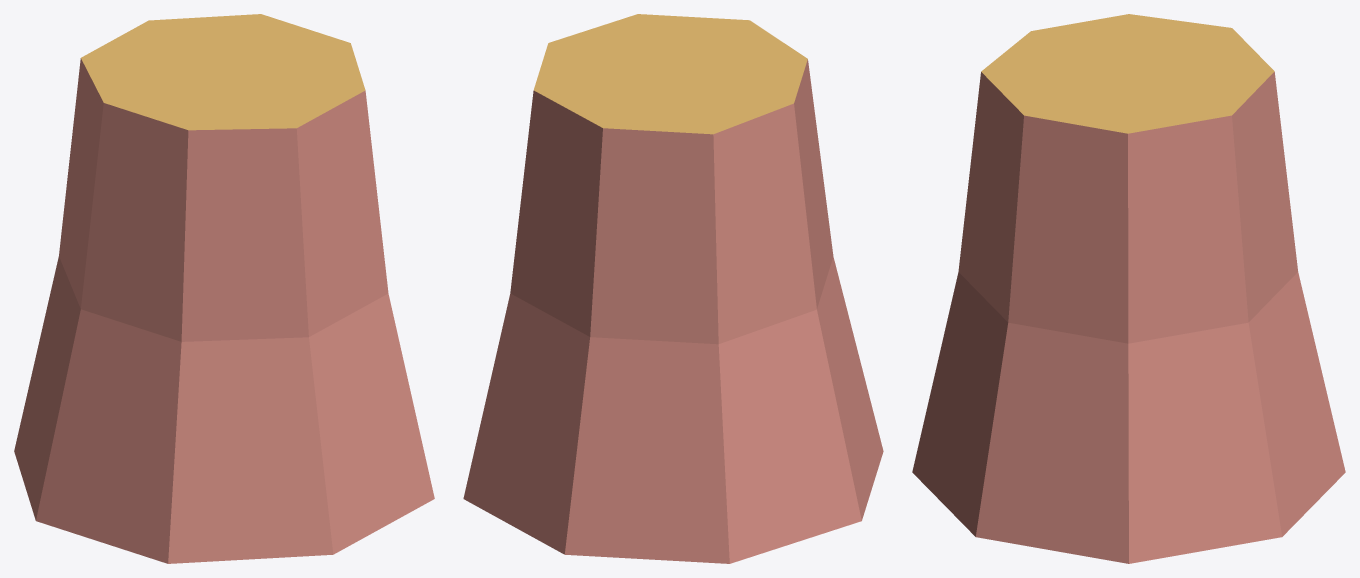
File: TreeStump1.fbx
3 renders of one model, left to right at view 1: azimuth 30°, elevation 25°; view 2: azimuth 150°, elevation 25°; view 3: azimuth 270°, elevation 25°, orthographic.
Parts seen in each view (by area): view 1: Cylinder; view 2: Cylinder; view 3: Cylinder.
Part boxes in pixels (x1,y1,x2,y2): Cylinder: (14,14,434,563); Cylinder: (463,14,883,563); Cylinder: (912,14,1345,563).
Bounding box in the file's own units: 1.28 × 1.3 × 1.28.
